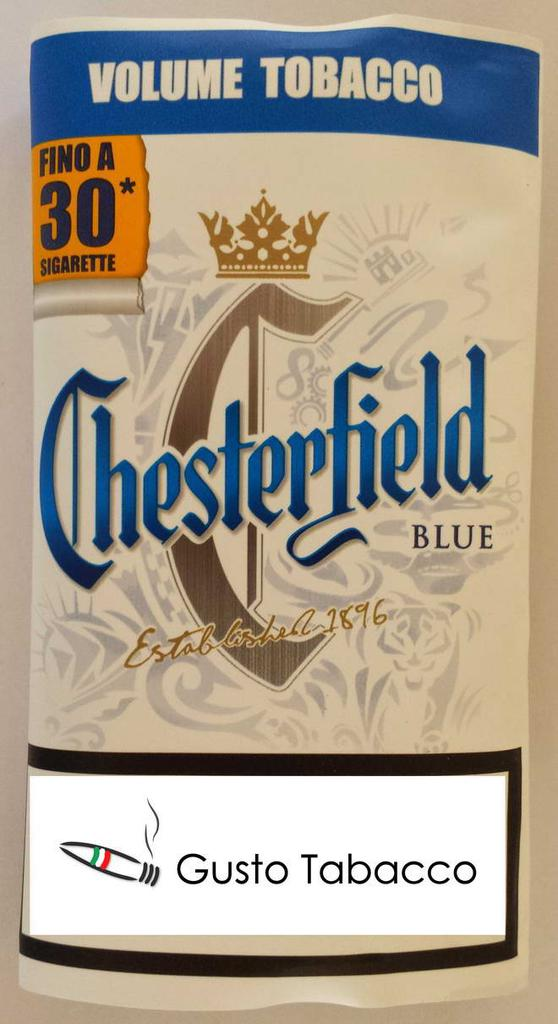chesterfield_blue: (29, 133, 526, 976)
